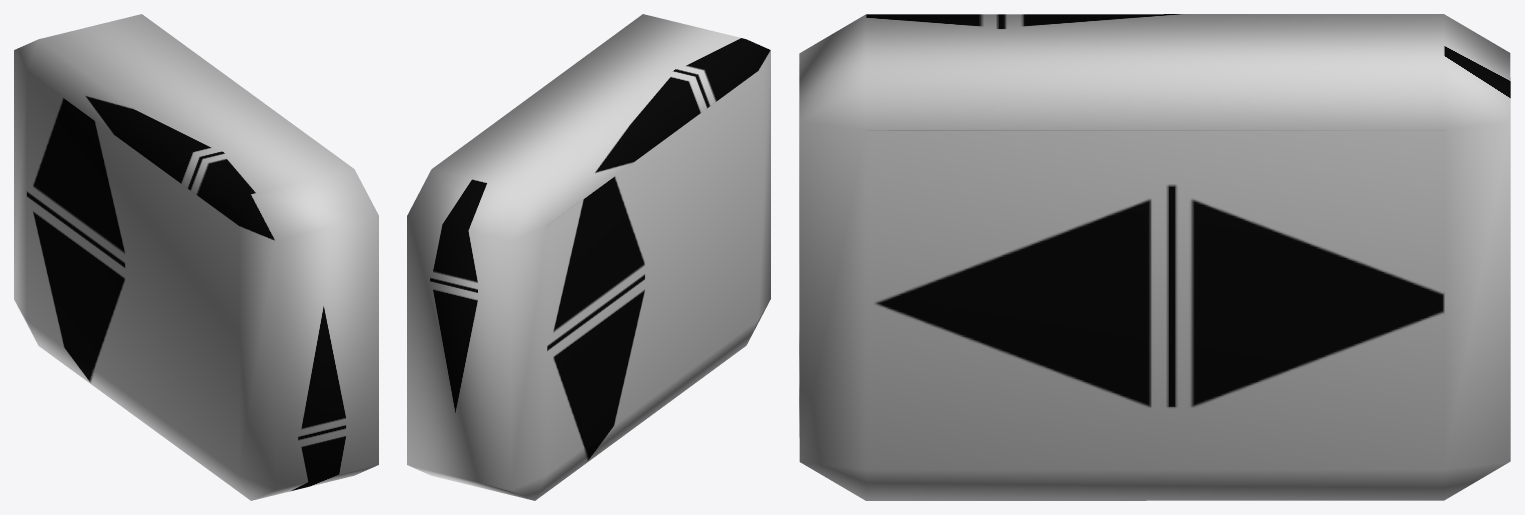
File: AbrirAscensor.fbx
3 renders of one model, left to right at view 1: azimuth 30°, elevation 25°; view 2: azimuth 150°, elevation 25°; view 3: azimuth 270°, elevation 25°, orthographic. The views are drawn at different scales.
Visible parts, largest first — view 1: BotonAbrir; view 2: BotonAbrir; view 3: BotonAbrir.
Boxes of the visible parts, x1,y1,x2,y2 form: BotonAbrir: [14, 14, 378, 500]; BotonAbrir: [407, 14, 770, 500]; BotonAbrir: [799, 14, 1510, 500].
Bounding box in the file's own units: 1.36 × 3.12 × 4.81.
